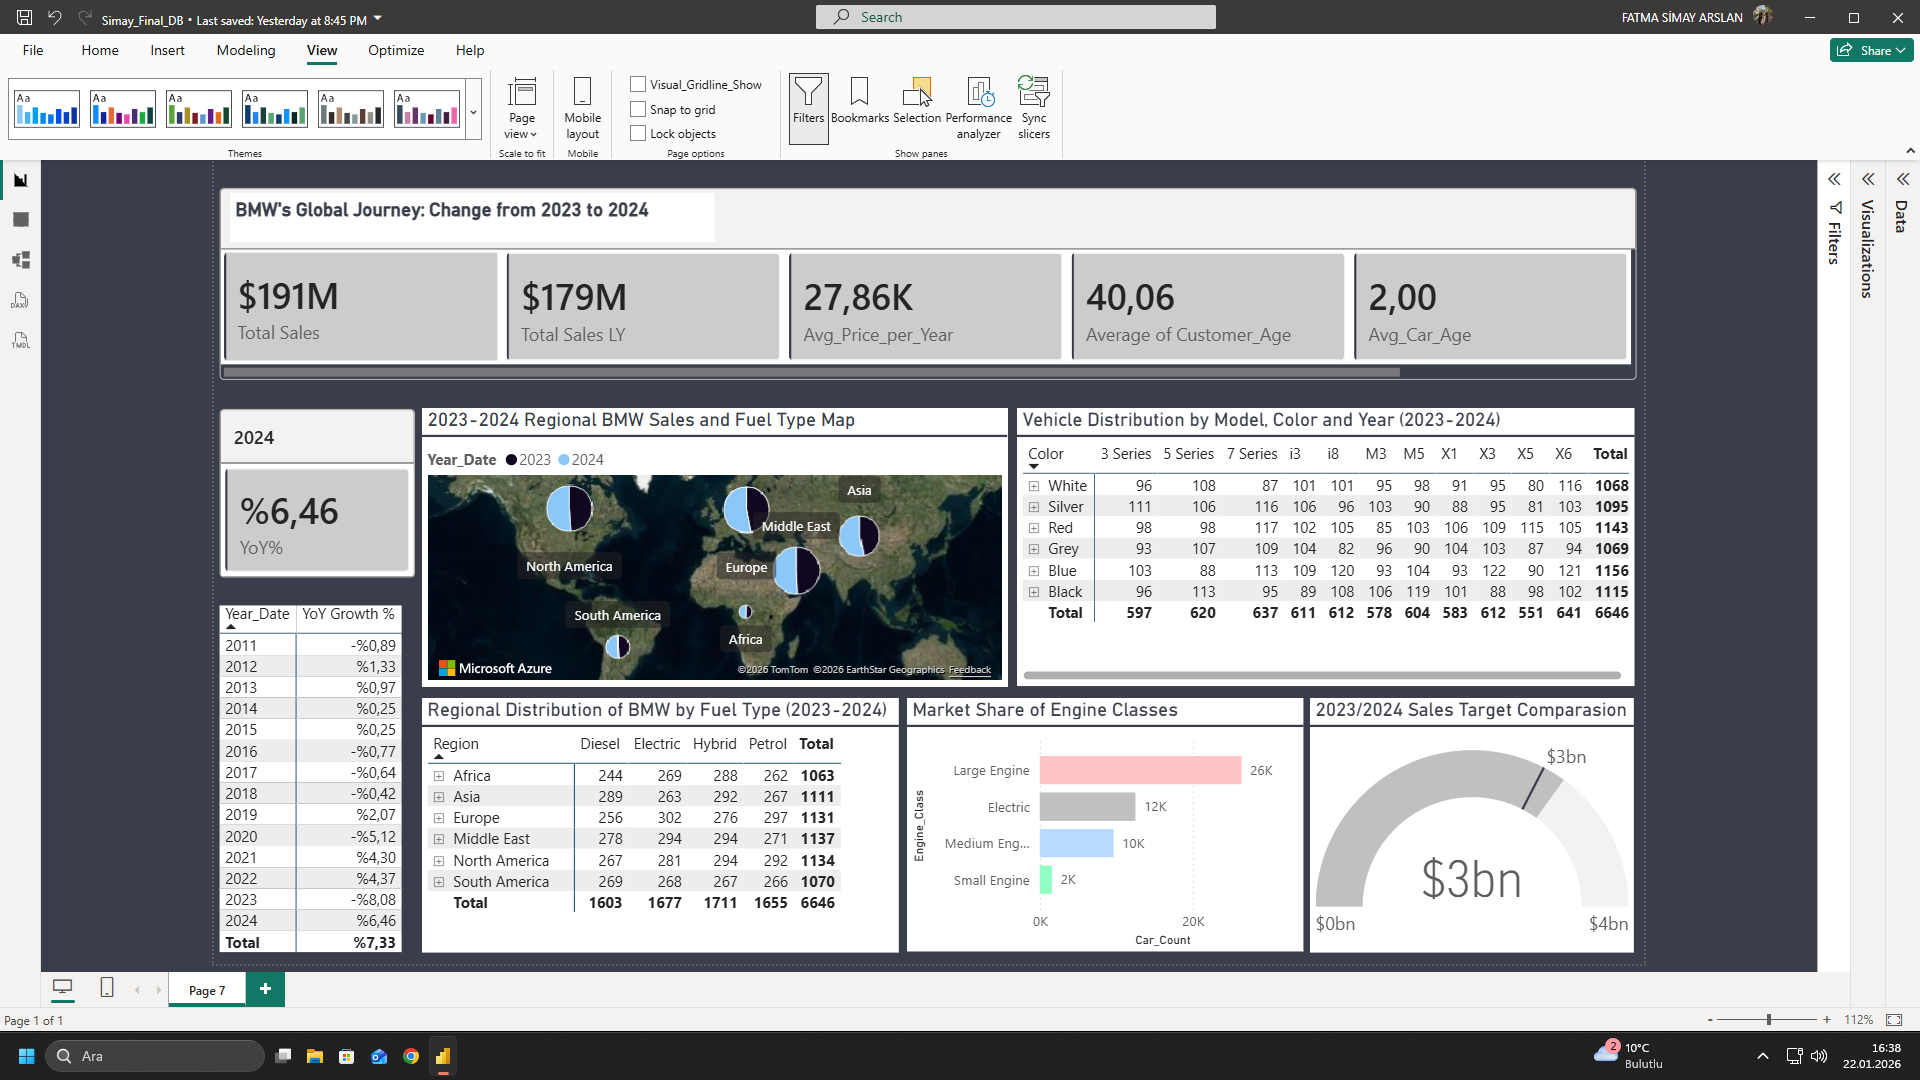

The dashboard page shown, as its layout file describes it:
{"tool":"powerbi","page":{"name":"Page 7","canvas":[1280,720],"ordinal":0},"visuals":[{"type":"cardVisual","fields":{"Data":["BMW Data.Total Sales","BMW Data.Total Sales LY","BMW Data.Avg_Price_per_Year","Avg(BMW Data.Average_Customer_Age)","BMW Data.Avg_Car_Age","BMW Data.Car_Count"],"Rows":["BMW Data.Year_Date.Variation.Tarih Hiyerarşisi.Yıl"]},"box":[0,0,1279.7,222.5],"z":0},{"type":"pivotTable","title":"Vehicle Distribution by Model, Color and Year (2023-2024)","fields":{"Columns":["BMW Data.Model"],"Rows":["BMW Data.Color","BMW Data.Year_Date"],"Values":["BMW Data.Car_Count"]},"box":[719.1,222.3,553.2,248.9],"z":1000},{"type":"pivotTable","title":"Regional Distribution of BMW by Fuel Type (2023-2024)","fields":{"Rows":["BMW Data.Region","BMW Data.Country","BMW Data.Year_Date"],"Columns":["BMW Data.Fuel_Type"],"Values":["BMW Data.Car_Count"]},"box":[186.2,481.9,426.6,227.7],"z":2000},{"type":"pivotTable","fields":{"Rows":["BMW Data.Year_Date"],"Values":["BMW Data.YoY Growtth %"]},"box":[0,391.1,185.7,328.9],"z":3000},{"type":"cardVisual","fields":{"Data":["BMW Data.YoY%"],"Rows":["BMW Data.Year_Date"]},"box":[0,197.9,186,201.2],"z":4000},{"type":"azureMap","title":"2023-2024 Regional BMW Sales and Fuel Type Map","fields":{"Size":["BMW Data.Car_Count"],"Category":["BMW Data.Region","BMW Data.Country"],"Series":["BMW Data.Year_Date"]},"box":[186.2,222.3,524.5,248.9],"z":5000},{"type":"barChart","title":"Market Share of Engine Classes","fields":{"Category":["BMW Data.Engine_Class"],"Y":["BMW Data.Car_Count"]},"box":[620.5,482.2,354.8,227.4],"z":6000},{"type":"gauge","title":"2023/2024 Sales Target Comparasion","fields":{"Y":["BMW Data.Total Sales"],"TargetValue":["BMW Data.Total Sales LY"]},"box":[981.9,481.9,290.4,227.7],"z":7000},{"type":"textbox","box":[14.8,29.5,434.1,44.3],"z":8000}]}

Visuals, with their boxes on the page's 1280x720 design canvas (x1, y1, x2, y2). These are canvas units, not pixel positions in the 1920x1080 screenshot, which may show the page scaled, cropped or inside an application window:
cardVisual - BMW Data.Total Sales x BMW Data.Total Sales LY: (0,0,1280,222)
"Vehicle Distribution by Model, Color and Year (2023-2024)" pivotTable: (719,222,1272,471)
"Regional Distribution of BMW by Fuel Type (2023-2024)" pivotTable: (186,482,613,710)
pivotTable - BMW Data.Year_Date x BMW Data.YoY Growtth %: (0,391,186,720)
cardVisual - BMW Data.YoY% x BMW Data.Year_Date: (0,198,186,399)
"2023-2024 Regional BMW Sales and Fuel Type Map" azureMap: (186,222,711,471)
"Market Share of Engine Classes" barChart: (620,482,975,710)
"2023/2024 Sales Target Comparasion" gauge: (982,482,1272,710)
textbox: (15,30,449,74)
